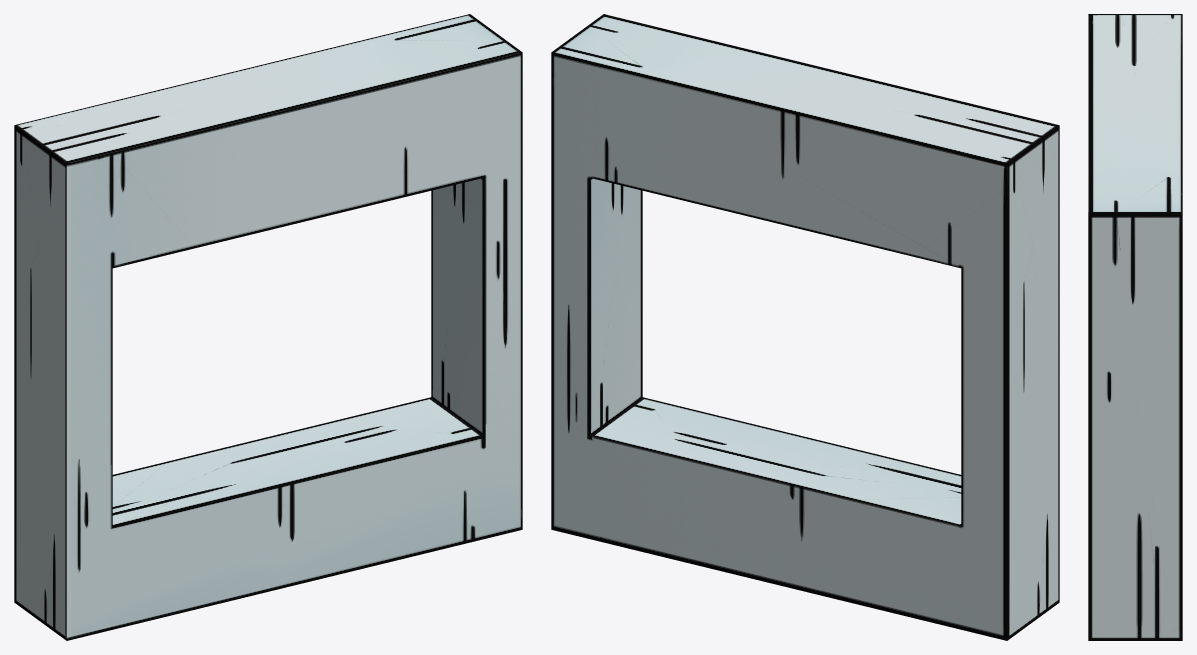
The model's file is windowwall.fbx.
The picture shows the model from 3 angles, left to right: view 1: azimuth 30°, elevation 25°; view 2: azimuth 150°, elevation 25°; view 3: azimuth 270°, elevation 25°; orthographic projection. The views are drawn at different scales.
Parts seen in each view (by area): view 1: windowwall; view 2: windowwall; view 3: windowwall.
Part boxes in pixels (box(x1,y1,x2,y2)): windowwall: box(14, 14, 522, 640); windowwall: box(551, 14, 1059, 640); windowwall: box(1088, 14, 1182, 640).
Bounding box in the file's own units: 2 × 2 × 0.4.
Materials: 1 (1 with a texture image).
